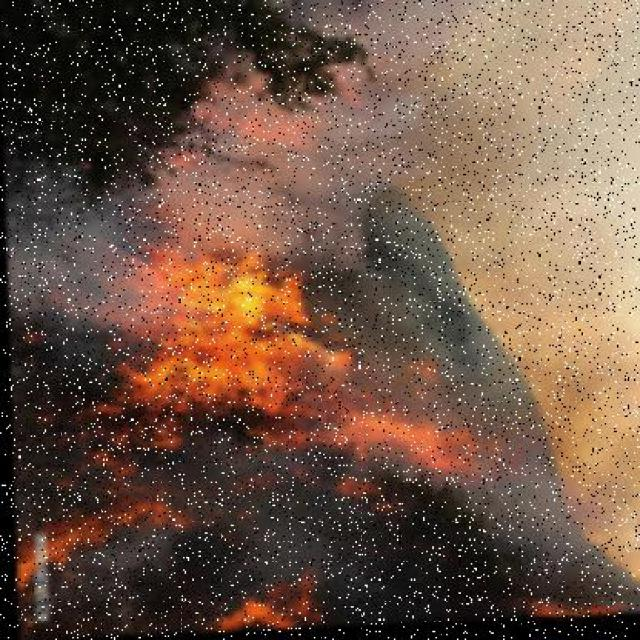fire: (107, 264, 318, 475)
